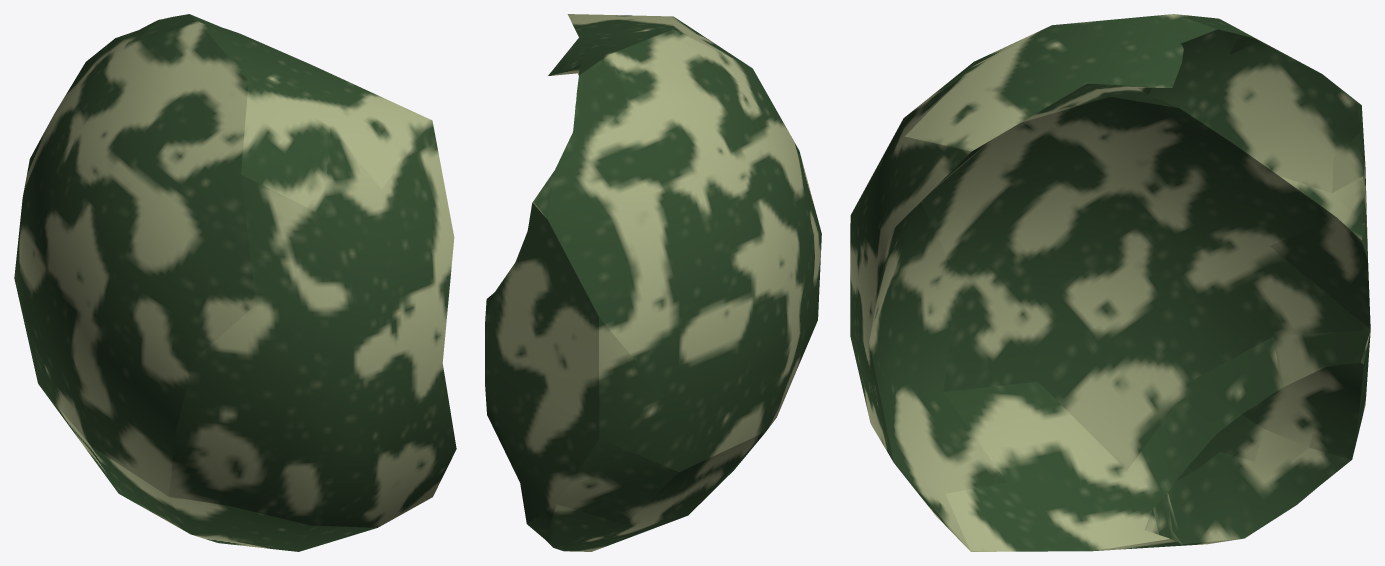
Rendered from link_body_13_composite.obj.
3 renders of one model, left to right at view 1: azimuth 30°, elevation 25°; view 2: azimuth 150°, elevation 25°; view 3: azimuth 270°, elevation 25°, orthographic. The views are drawn at different scales.
Parts seen in each view (by area): view 1: link_body_13; view 2: link_body_13; view 3: link_body_13.
Boxes of the visible parts, bbox=[...] form: link_body_13: bbox=[14, 14, 456, 551]; link_body_13: bbox=[485, 14, 821, 551]; link_body_13: bbox=[850, 14, 1370, 551].
Bounding box in the file's own units: 10.36 × 16.77 × 14.95.
Materials: 1 (1 with a texture image).
